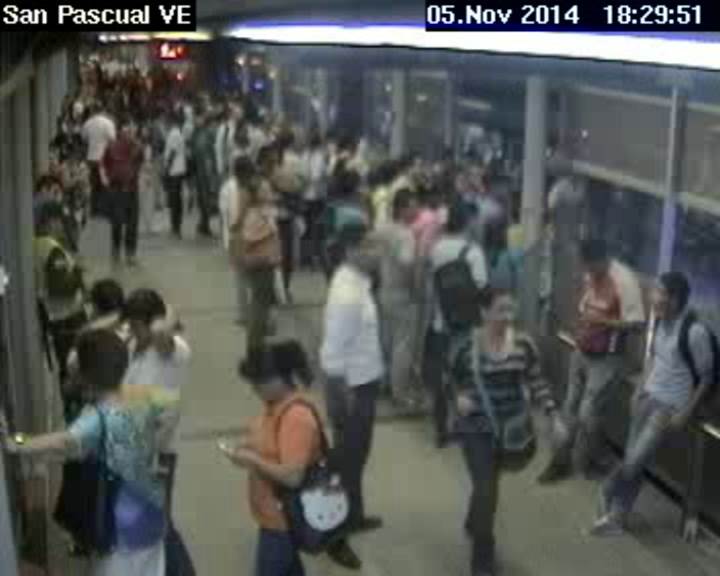person: (240, 340, 312, 401), (72, 328, 131, 398), (476, 281, 517, 343), (572, 237, 625, 280), (649, 268, 690, 322), (33, 201, 81, 247), (88, 280, 139, 321), (344, 223, 380, 273), (128, 291, 166, 337), (479, 212, 512, 253), (445, 202, 475, 242), (437, 160, 470, 195), (392, 188, 418, 228), (254, 139, 278, 179), (306, 128, 336, 158), (241, 179, 272, 205), (34, 172, 60, 203), (369, 163, 399, 188), (332, 170, 358, 198), (232, 154, 252, 186), (275, 131, 297, 160), (337, 137, 360, 158), (199, 113, 218, 136), (229, 102, 244, 123), (165, 113, 182, 131), (90, 98, 106, 116), (117, 121, 132, 140)
